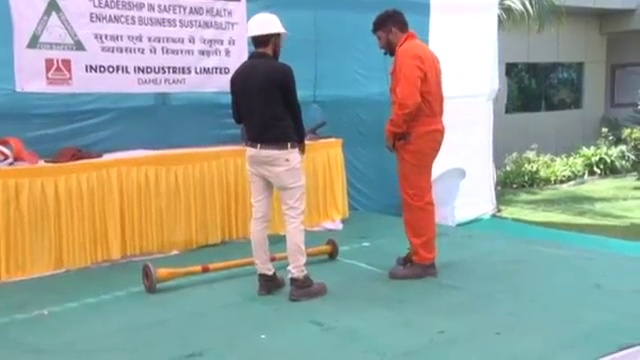helmet: (245, 10, 291, 40)
helmet_off: (370, 8, 413, 58)
helmet_on: (244, 10, 292, 60)
person: (231, 10, 329, 303), (371, 7, 448, 282)
